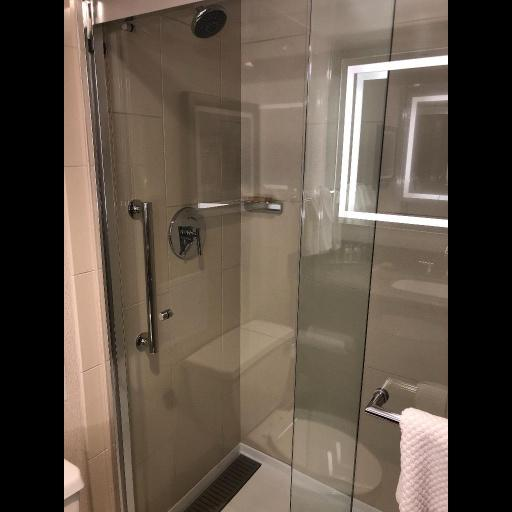clean shower: (83, 0, 448, 512)
